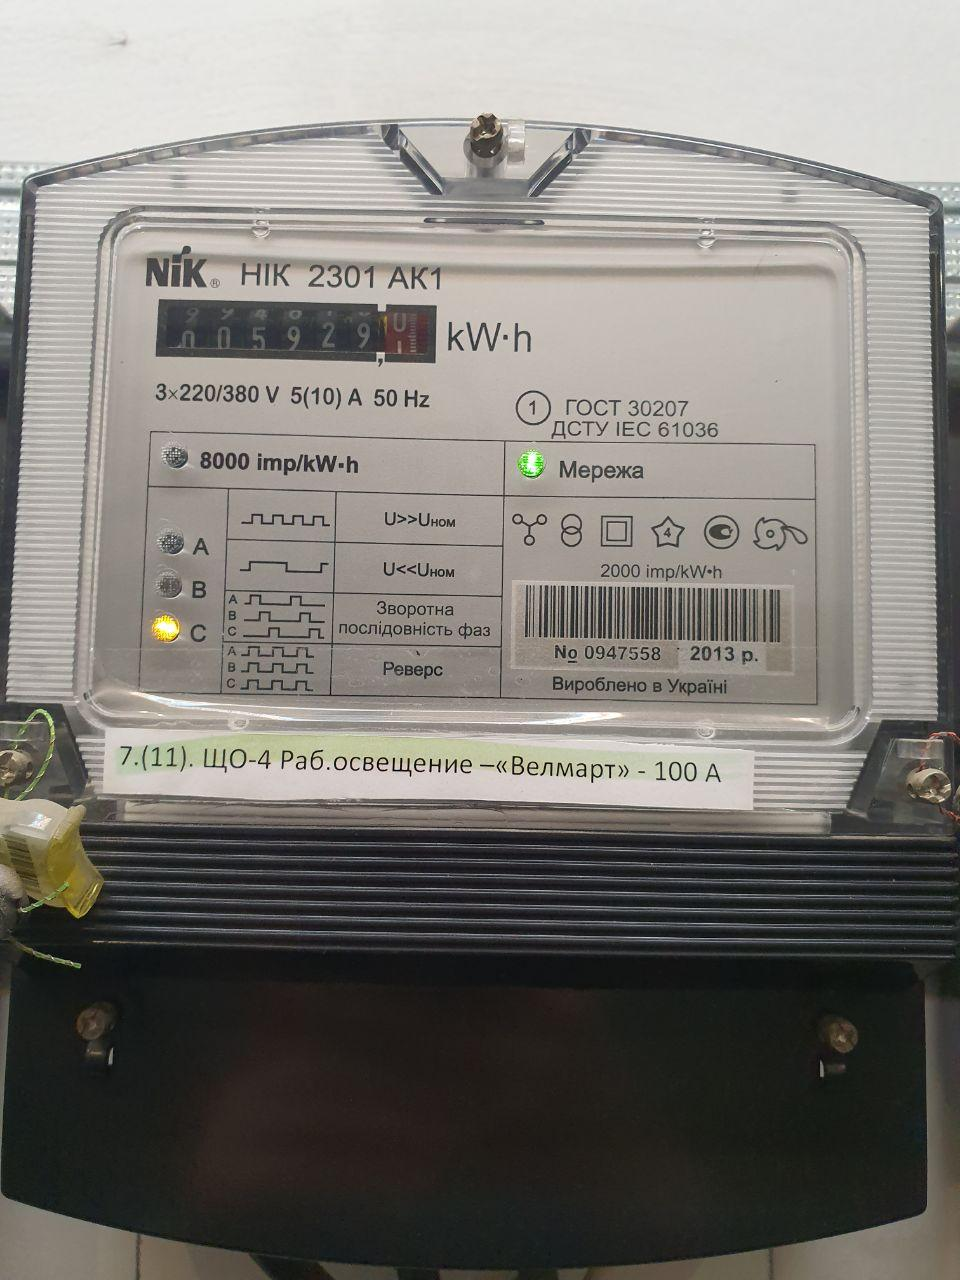0: (215, 324, 234, 352), (178, 326, 199, 349), (391, 311, 410, 334)
2: (319, 319, 338, 352)
5: (250, 324, 268, 352)
9: (283, 323, 304, 353), (355, 321, 374, 352), (183, 306, 201, 324)
screen: (150, 294, 445, 373)
